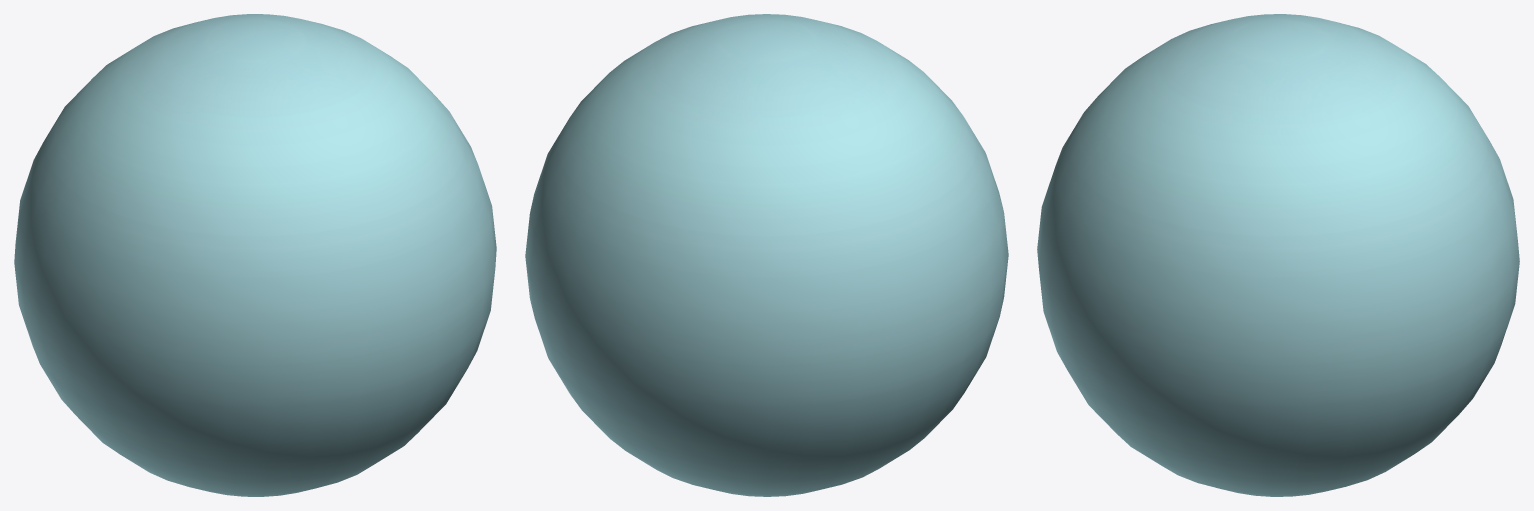
Rendered from urano.glb.
The picture shows the model from 3 angles, left to right: view 1: azimuth 30°, elevation 25°; view 2: azimuth 150°, elevation 25°; view 3: azimuth 270°, elevation 25°; orthographic projection.
Parts seen in each view (by area): view 1: urano.001; view 2: urano.001; view 3: urano.001.
Boxes of the visible parts, x1,y1,x2,y2 form: urano.001: (14, 14, 496, 496); urano.001: (525, 14, 1008, 496); urano.001: (1037, 14, 1519, 496).
Bounding box in the file's own units: 0.5071 × 0.508 × 0.5071.
1 material, 1 textured.
